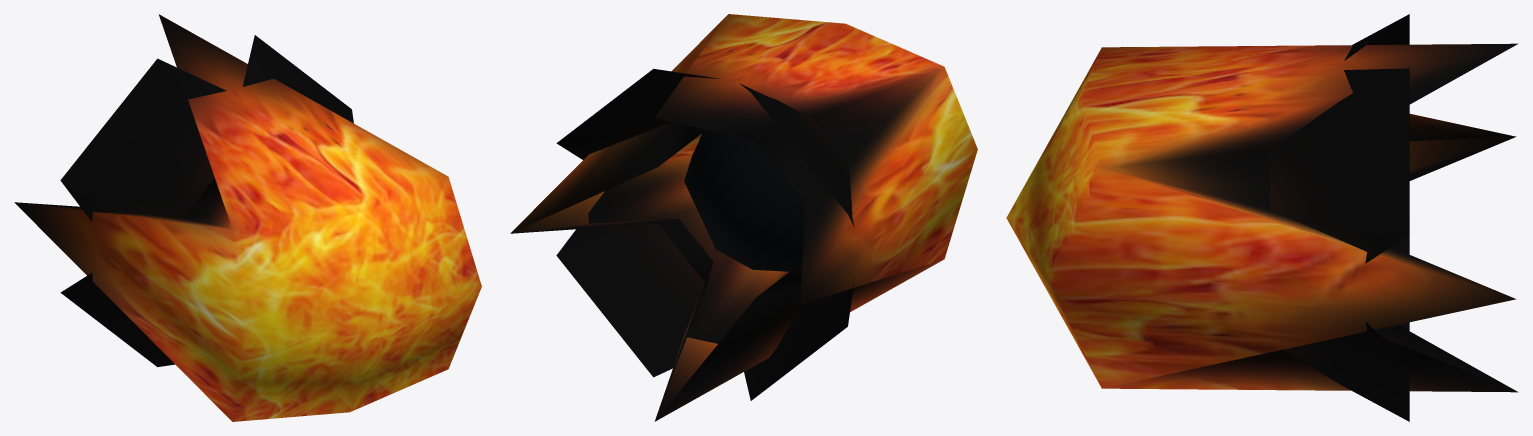
Rendered from FireLanceHead.FBX.
3 views of the same model, side by side, from view 1: azimuth 30°, elevation 25°; view 2: azimuth 150°, elevation 25°; view 3: azimuth 270°, elevation 25° (orthographic). The views are drawn at different scales.
Parts seen in each view (by area): view 1: FireLanceHead; view 2: FireLanceHead; view 3: FireLanceHead.
Part boxes in pixels (<box>): FireLanceHead: <box>14,14,481,421</box>; FireLanceHead: <box>510,14,977,421</box>; FireLanceHead: <box>1006,14,1518,421</box>.
Bounding box in the file's own units: 38039 × 38486 × 50541.
Materials: 1 (1 with a texture image).
